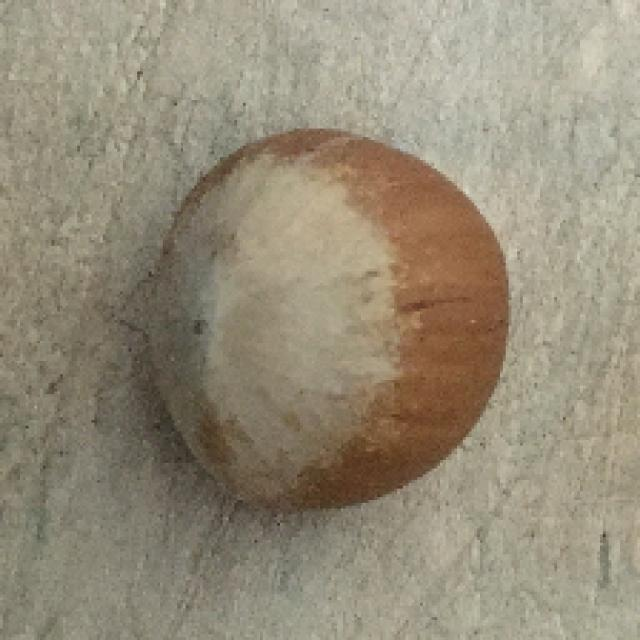qualityHazelnut: (153, 128, 515, 523)
